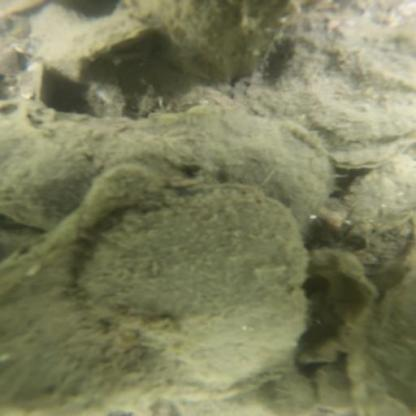Oyster-Closed: (82, 189, 305, 385), (0, 99, 329, 225), (252, 0, 415, 171), (112, 0, 306, 84), (344, 265, 416, 416), (28, 11, 154, 85), (342, 154, 415, 276)
